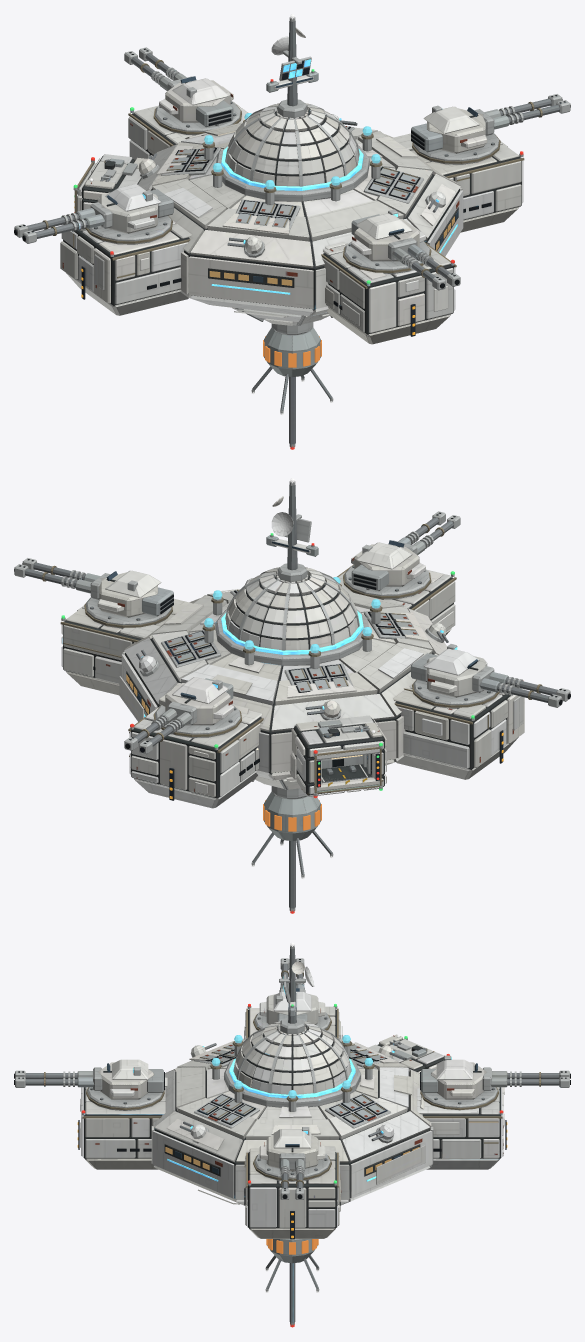
File: defense_platform.glb
The picture shows the model from 3 angles, top to bottom: view 1: azimuth 30°, elevation 25°; view 2: azimuth 150°, elevation 25°; view 3: azimuth 270°, elevation 25°; orthographic projection. The views are drawn at different scales.
Parts seen in each view (by area): view 1: Hull, Lights; view 2: Hull, Lights; view 3: Hull, Lights.
Boxes of the visible parts, bbox=[...] form: Hull: bbox=[14, 17, 570, 447]; Lights: bbox=[73, 14, 523, 449]; Hull: bbox=[14, 481, 570, 911]; Lights: bbox=[61, 478, 503, 913]; Hull: bbox=[14, 945, 570, 1325]; Lights: bbox=[77, 942, 507, 1327].
Bounding box in the file's own units: 93.3 × 71.16 × 93.3.
Materials: 3 (2 with a texture image).
